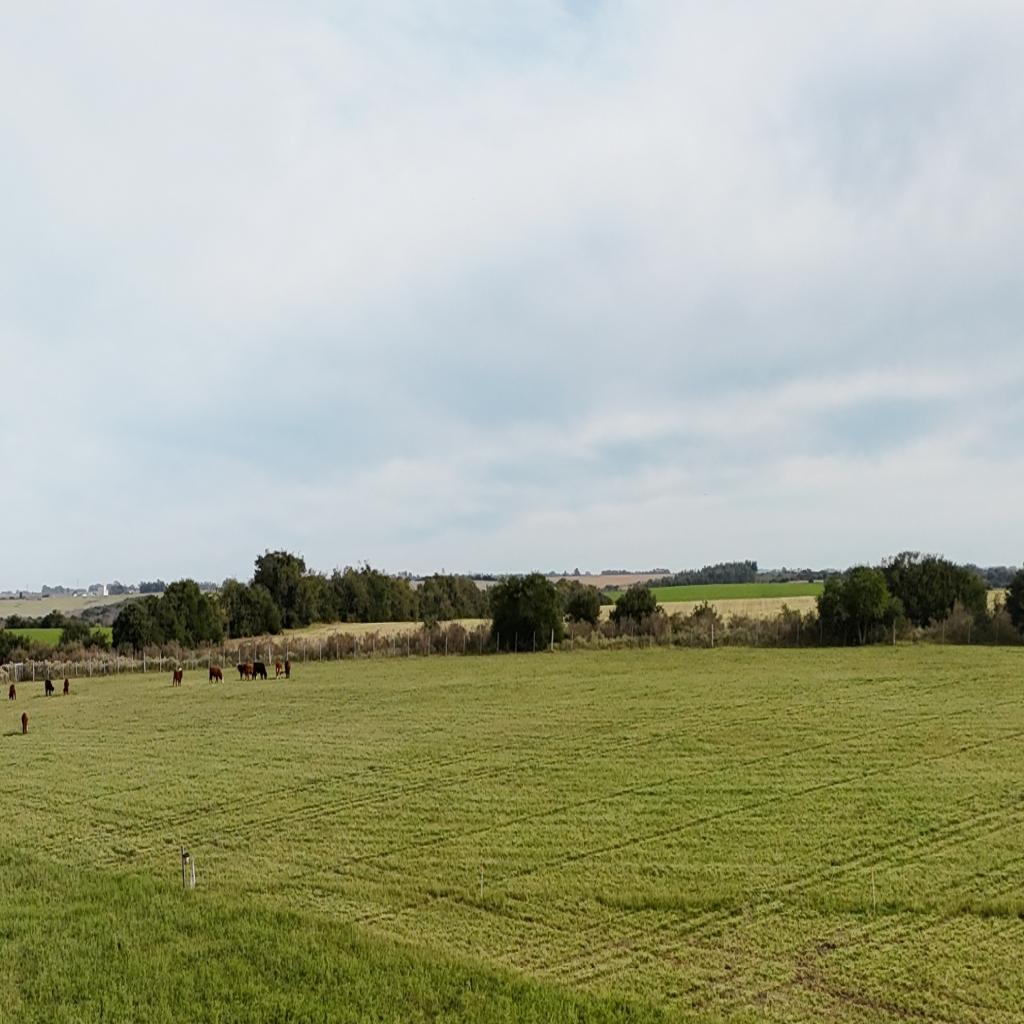cow: (236, 663, 251, 681), (253, 661, 266, 680), (209, 665, 220, 684), (172, 668, 183, 687), (21, 711, 29, 734), (45, 677, 54, 697), (283, 658, 291, 678), (8, 684, 16, 702), (275, 661, 282, 679), (63, 678, 69, 696)
